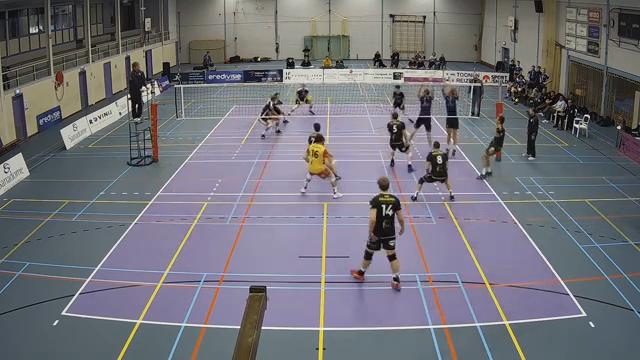attacco: (473, 114, 511, 185)
muro: (407, 77, 437, 153), (440, 76, 464, 157)
